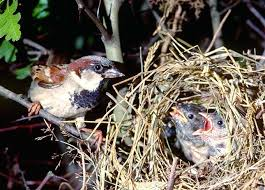hsparrow: (23, 56, 124, 129), (164, 100, 201, 140), (198, 110, 232, 153)
